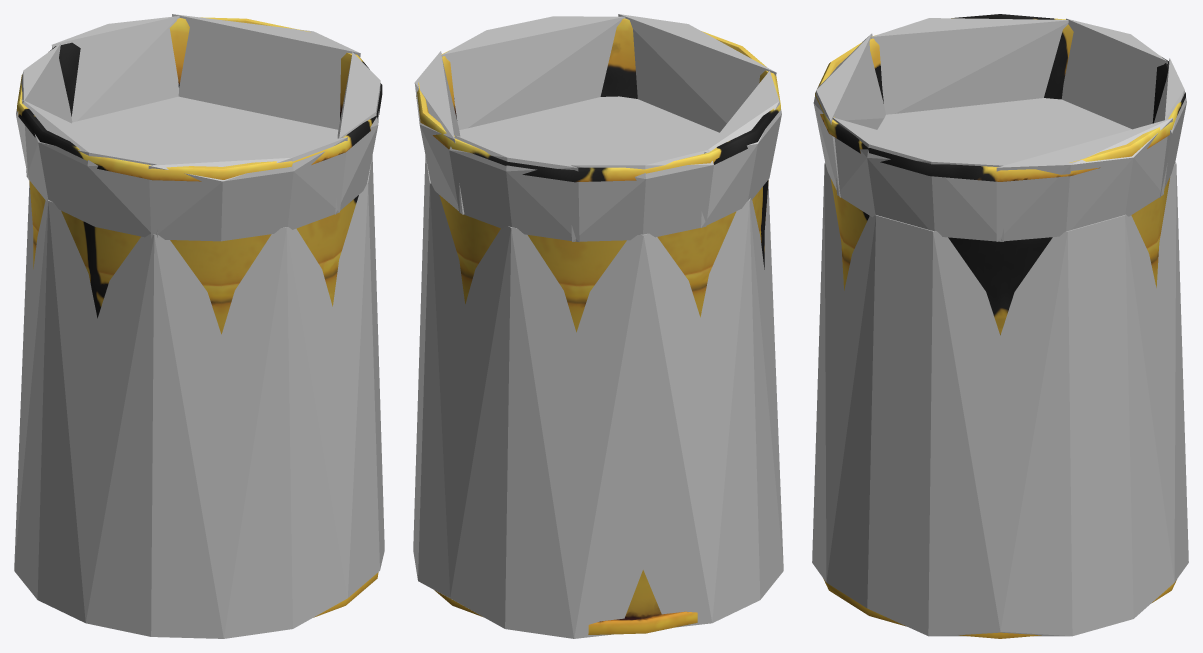
Rendered from SM_BarrelMetallic03_2.fbx.
3 views of the same model, side by side, from view 1: azimuth 30°, elevation 25°; view 2: azimuth 150°, elevation 25°; view 3: azimuth 270°, elevation 25° (orthographic).
Visible parts, largest first — view 1: SM_BarrelMetallic03_2_ConvexHulls, SM_BarrelMetallic03_2; view 2: SM_BarrelMetallic03_2_ConvexHulls, SM_BarrelMetallic03_2; view 3: SM_BarrelMetallic03_2_ConvexHulls, SM_BarrelMetallic03_2.
Part boxes in pixels (box(x1,y1,x2,y2)): SM_BarrelMetallic03_2_ConvexHulls: box(14, 14, 384, 638); SM_BarrelMetallic03_2: box(17, 17, 382, 617); SM_BarrelMetallic03_2_ConvexHulls: box(413, 14, 783, 638); SM_BarrelMetallic03_2: box(416, 18, 780, 634); SM_BarrelMetallic03_2_ConvexHulls: box(812, 18, 1188, 636); SM_BarrelMetallic03_2: box(815, 14, 1185, 638).
Bounding box in the file's own units: 76.28 × 76.28 × 106.
Materials: 2 (1 with a texture image).
